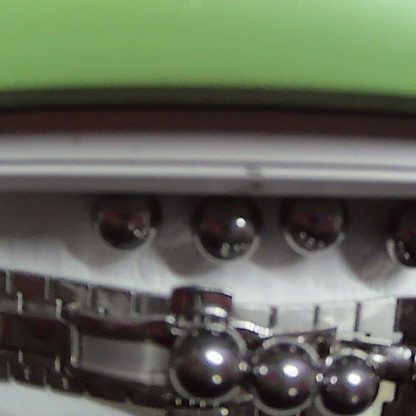ironball: (188, 184, 265, 275), (267, 190, 360, 258), (86, 181, 164, 255), (175, 326, 240, 395), (248, 332, 304, 401), (312, 345, 369, 410), (387, 210, 414, 265)
